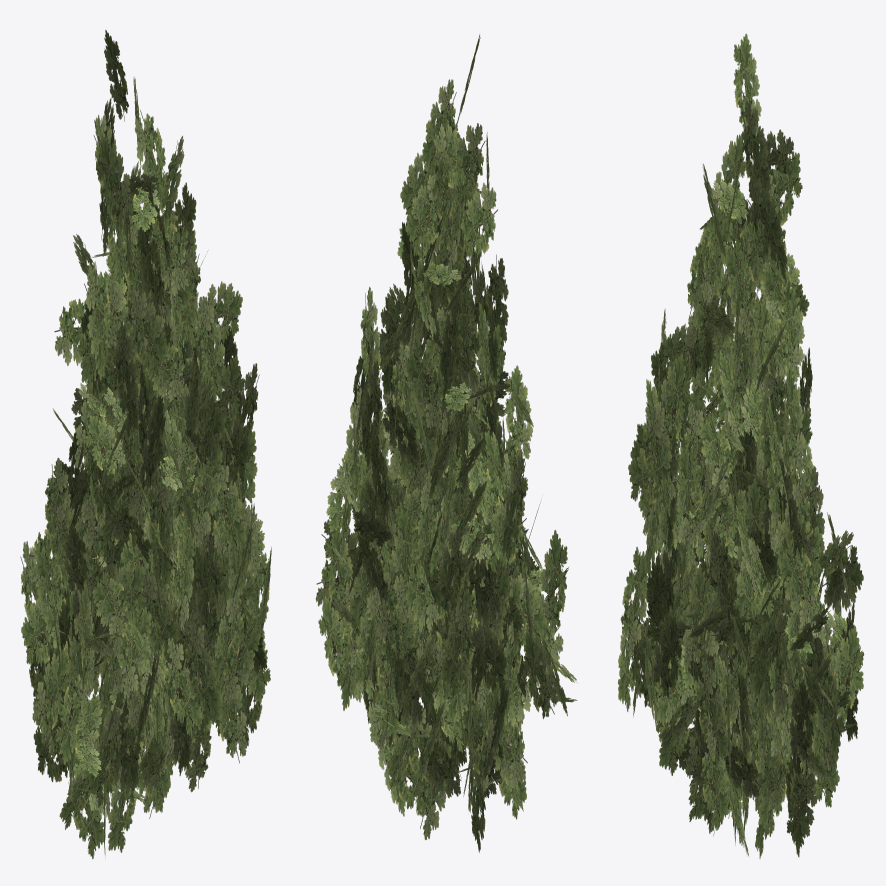
The model's file is tree97.glb.
3 renders of one model, left to right at view 1: azimuth 30°, elevation 25°; view 2: azimuth 150°, elevation 25°; view 3: azimuth 270°, elevation 25°, orthographic. The views are drawn at different scales.
Parts seen in each view (by area): view 1: Cube; view 2: Cube; view 3: Cube.
Part boxes in pixels (box(x1,y1,x2,y2)): Cube: box(20, 30, 271, 859); Cube: box(315, 34, 577, 852); Cube: box(618, 33, 864, 858).
Size of the model in its own units: 6.9 by 24.52 by 6.73.
1 material, 1 textured.
